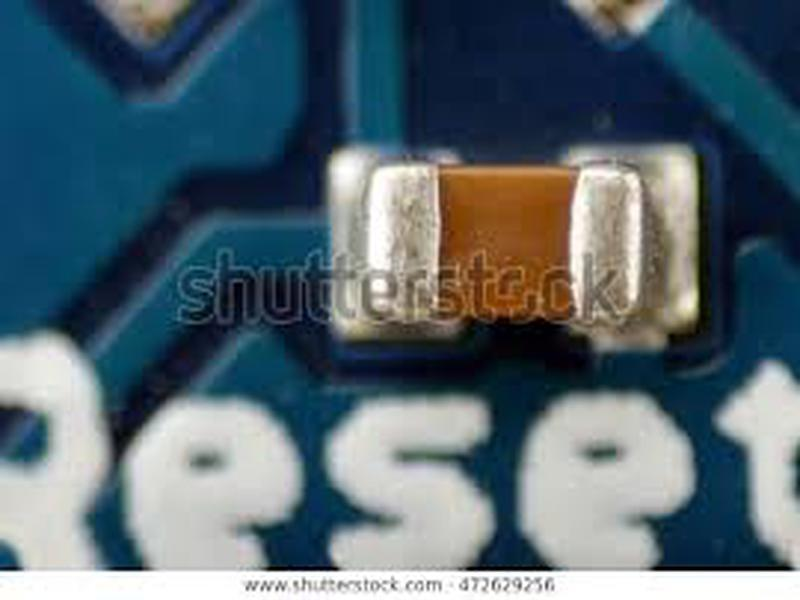SMD capacitor: (358, 146, 655, 349)
